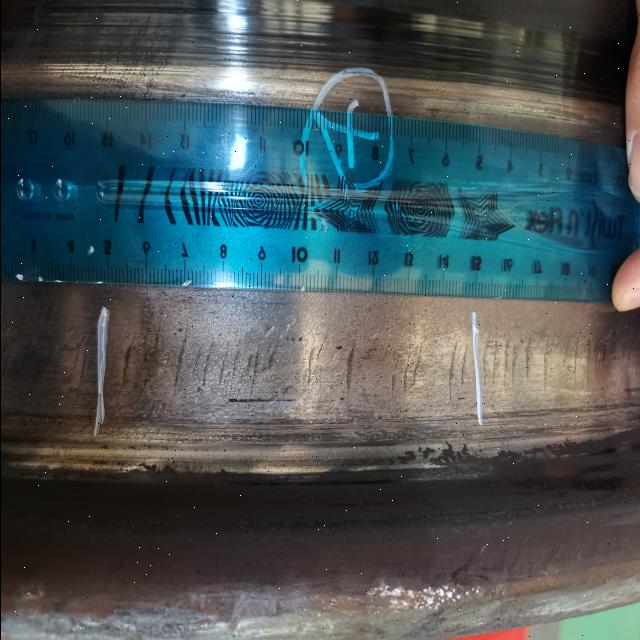hot crack: (478, 323, 618, 402), (342, 330, 454, 402), (197, 336, 320, 396), (114, 334, 188, 396)
